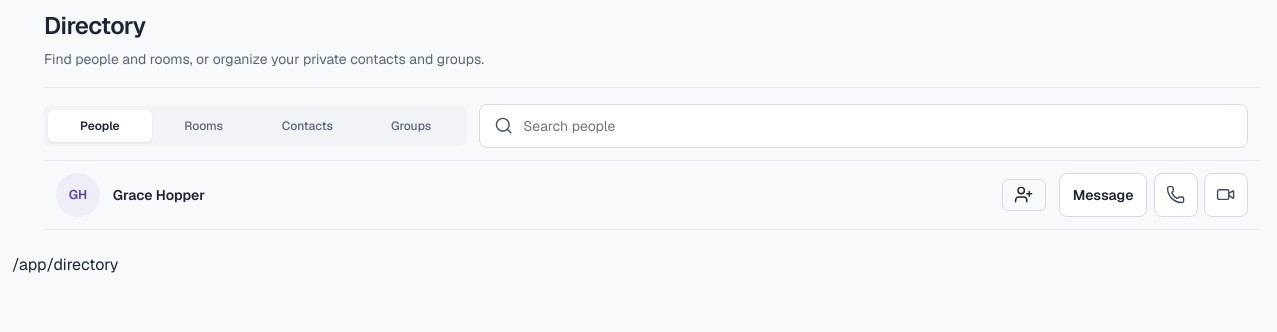
it: DirectoryPage › keeps people visible and retries the failed contact action without reloading search
The width and height of the screenshot is (1277, 332).
Click the button with aria-label "Message Grace Hopper": x=1103, y=195 [1059, 173, 1147, 217]
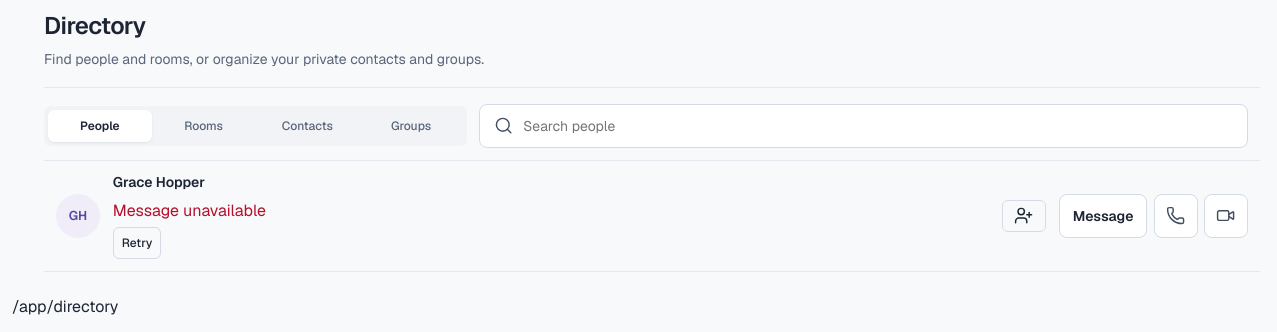
Check: the text "Grace Hopper" is shown, box [113, 173, 205, 191]
Check: the message shows "Message unavailable", box [113, 200, 266, 221]
Click the button with aria-label "Retry action for Grace Hopper": x=137, y=243 [113, 227, 161, 259]
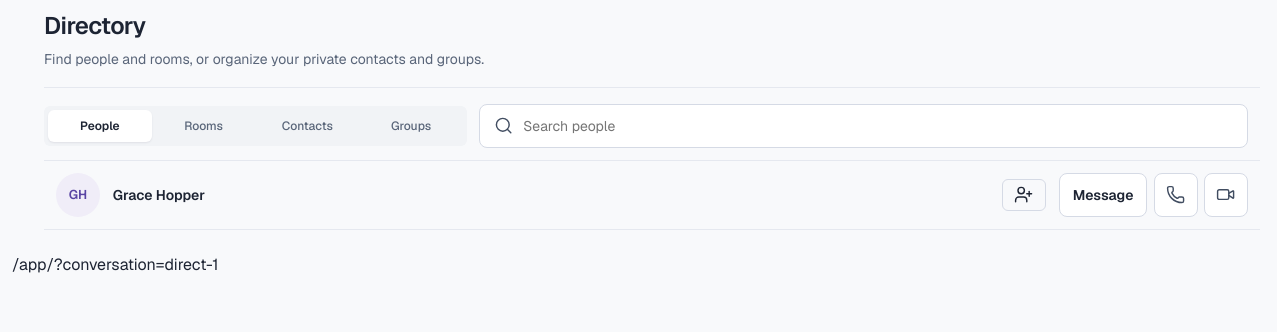
Check: the text named "location" shows "conversation=direct-1", box [12, 254, 218, 275]
